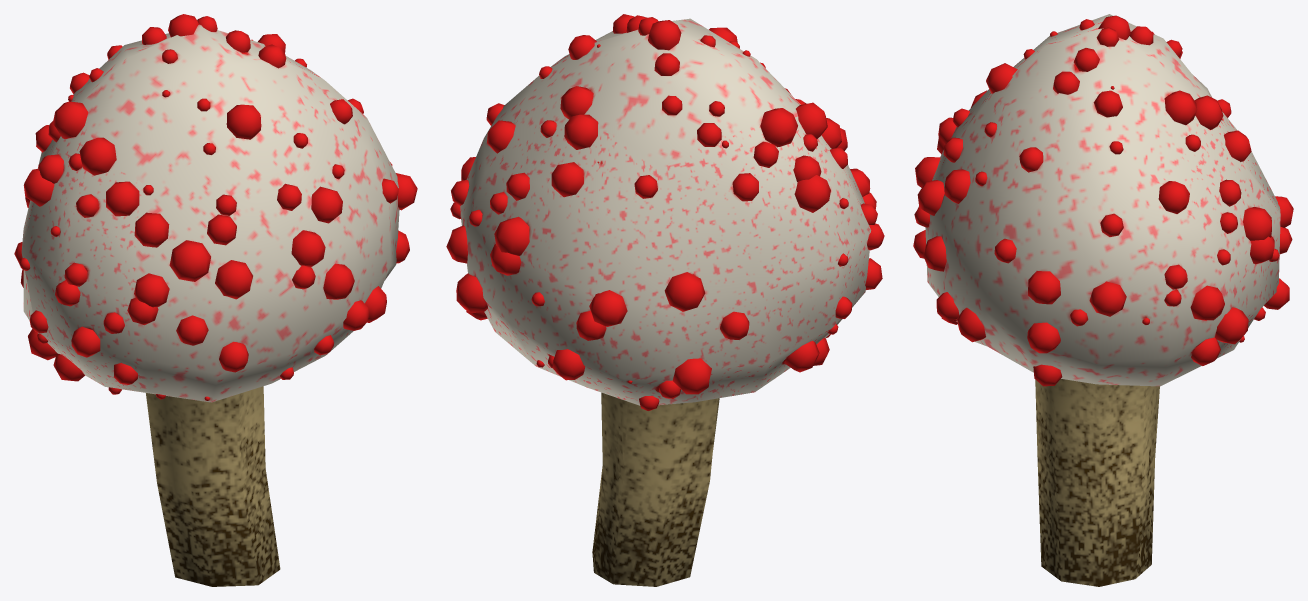
Rendered from champignon1.fbx.
The picture shows the model from 3 angles, left to right: view 1: azimuth 30°, elevation 25°; view 2: azimuth 150°, elevation 25°; view 3: azimuth 270°, elevation 25°; orthographic projection. The views are drawn at different scales.
Visible parts, largest first — view 1: champignon_1_LOD0; view 2: champignon_1_LOD0; view 3: champignon_1_LOD0.
Part boxes in pixels (x1,y1,x2,y2): champignon_1_LOD0: [14, 14, 417, 586]; champignon_1_LOD0: [446, 14, 884, 586]; champignon_1_LOD0: [913, 14, 1293, 586].
Size of what is drawn, in the model's own units: 279 by 391 by 252.
